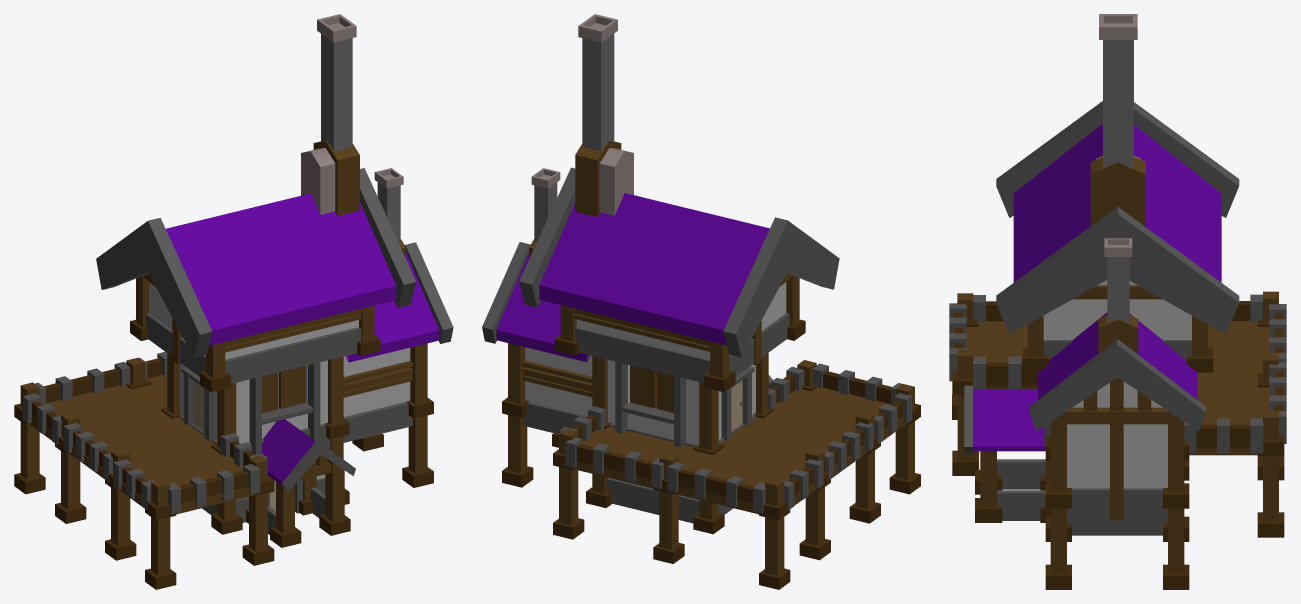
File: Mesh_Royal_Hos_Balcony.fbx
The picture shows the model from 3 angles, left to right: view 1: azimuth 30°, elevation 25°; view 2: azimuth 150°, elevation 25°; view 3: azimuth 270°, elevation 25°; orthographic projection. The views are drawn at different scales.
Parts seen in each view (by area): view 1: Royal_Hos_Balcony; view 2: Royal_Hos_Balcony; view 3: Royal_Hos_Balcony.
Boxes of the visible parts, x1,y1,x2,y2 form: Royal_Hos_Balcony: (14,14,453,589); Royal_Hos_Balcony: (482,14,920,589); Royal_Hos_Balcony: (949,14,1286,589).
Bounding box in the file's own units: 1334 × 1747 × 1005.
